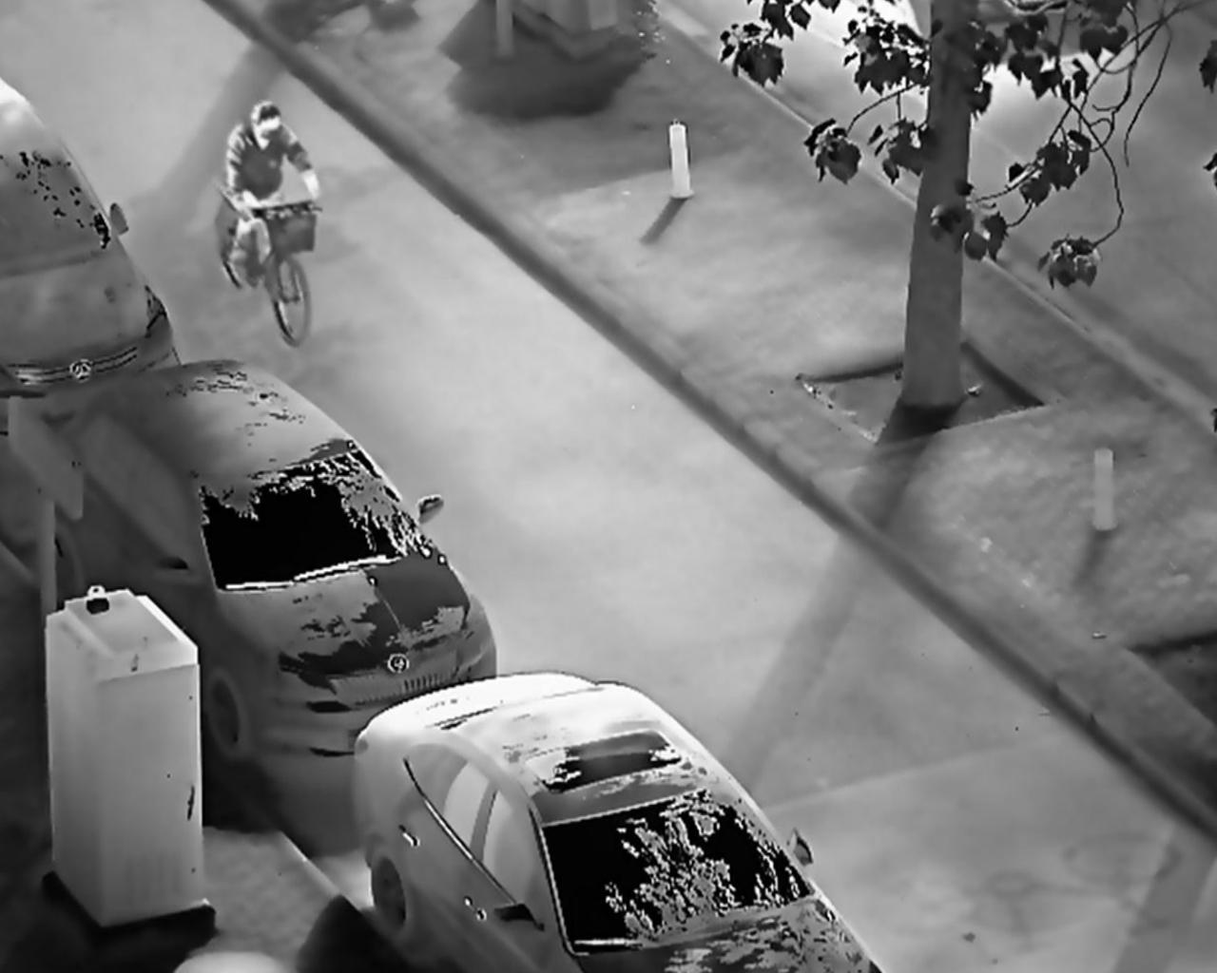person: (224, 102, 327, 296)
